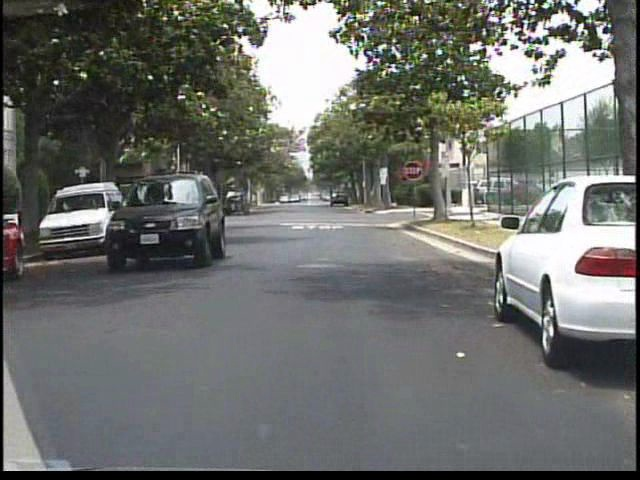person: (235, 181, 256, 223)
